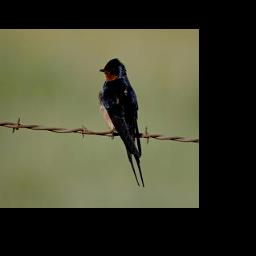Swallow: (99, 56, 147, 188)
